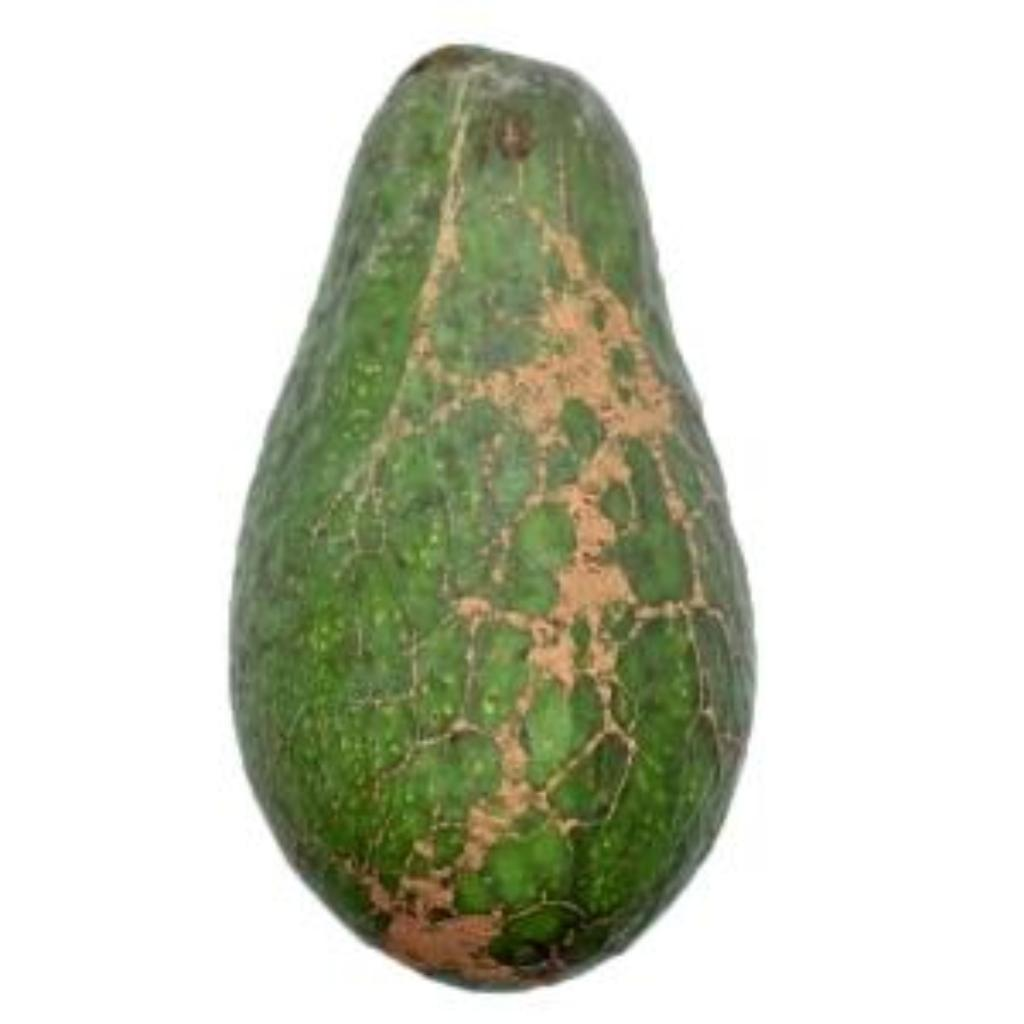cercospora_spot: (228, 43, 768, 999)
